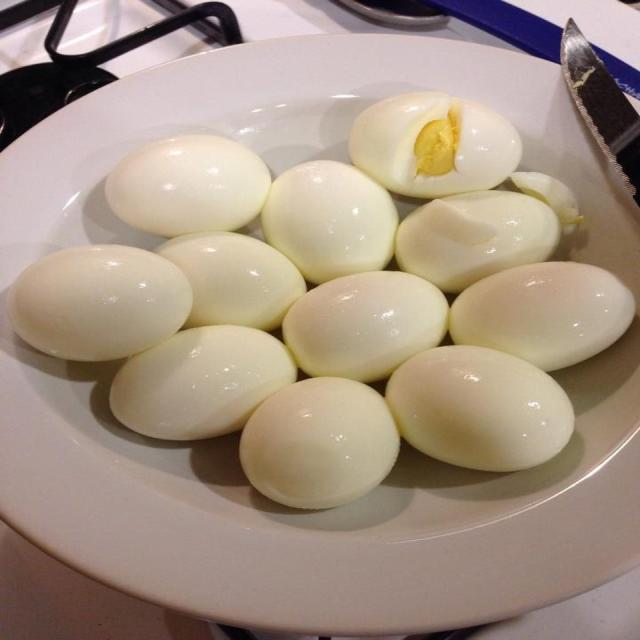egg boiled: (386, 346, 574, 471), (8, 245, 192, 361), (110, 326, 296, 440), (240, 378, 399, 509), (449, 262, 635, 371), (283, 271, 448, 382), (349, 92, 521, 198), (105, 134, 271, 237), (262, 160, 398, 283), (396, 191, 559, 292), (155, 232, 306, 331)
